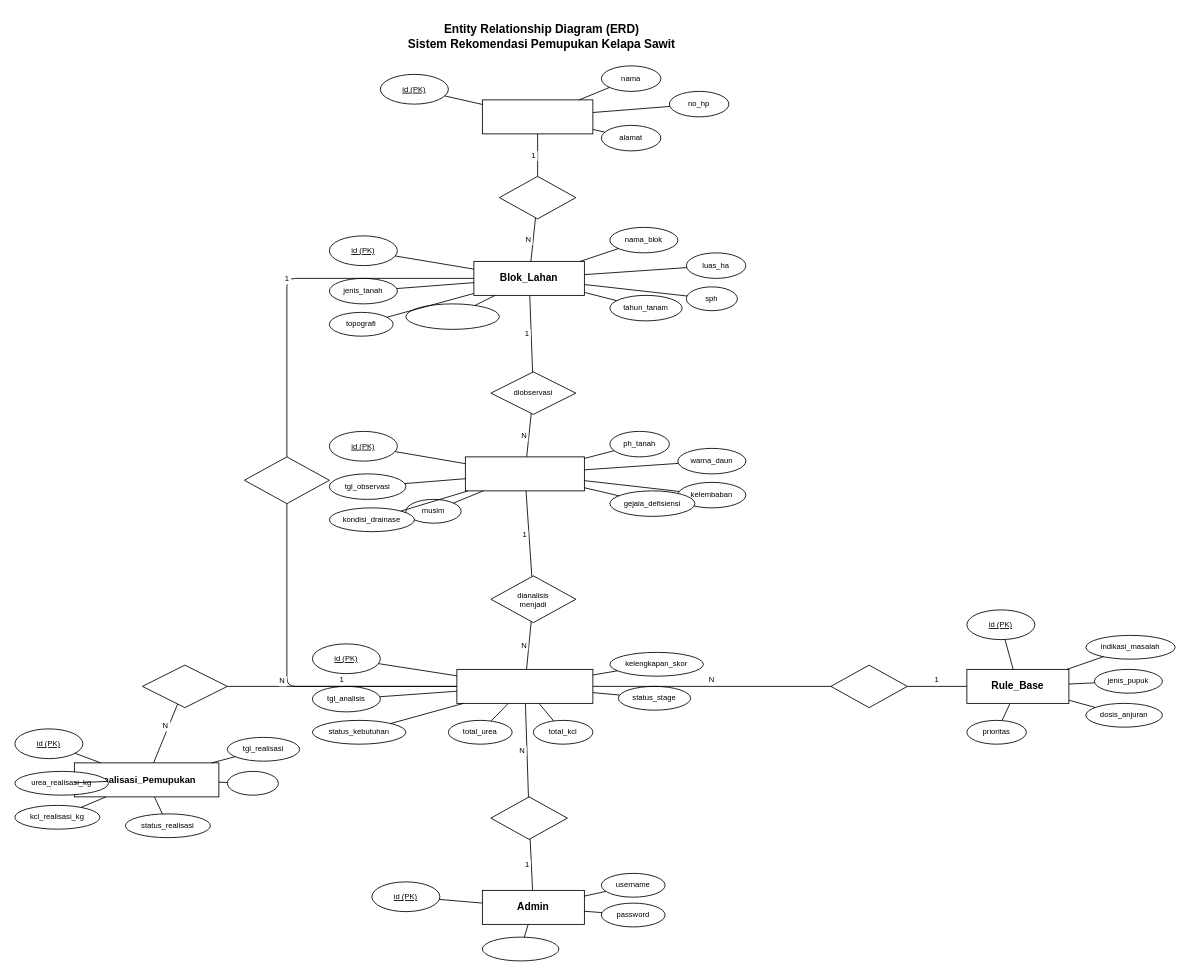
This 1190x976 diagram has some shape labels left out. The shapes that lost their labels are listed below. From the top down, each one's centre as x and y in pixels, then its label:
At point (537, 116): "Anggota".
At point (537, 197): "memiliki".
At point (452, 316): "koordinat_geojson".
At point (286, 480): "memiliki rekomendasi".
At point (524, 473): "Kondisi_Lahan".
At point (184, 686): "memiliki realisasi".
At point (524, 686): "Rekomendasi_RBS".
At point (868, 686): "referensi rule".
At point (252, 783): "tahap".
At point (528, 817): "dicatat oleh".
At point (520, 948): "nama_lengkap".
